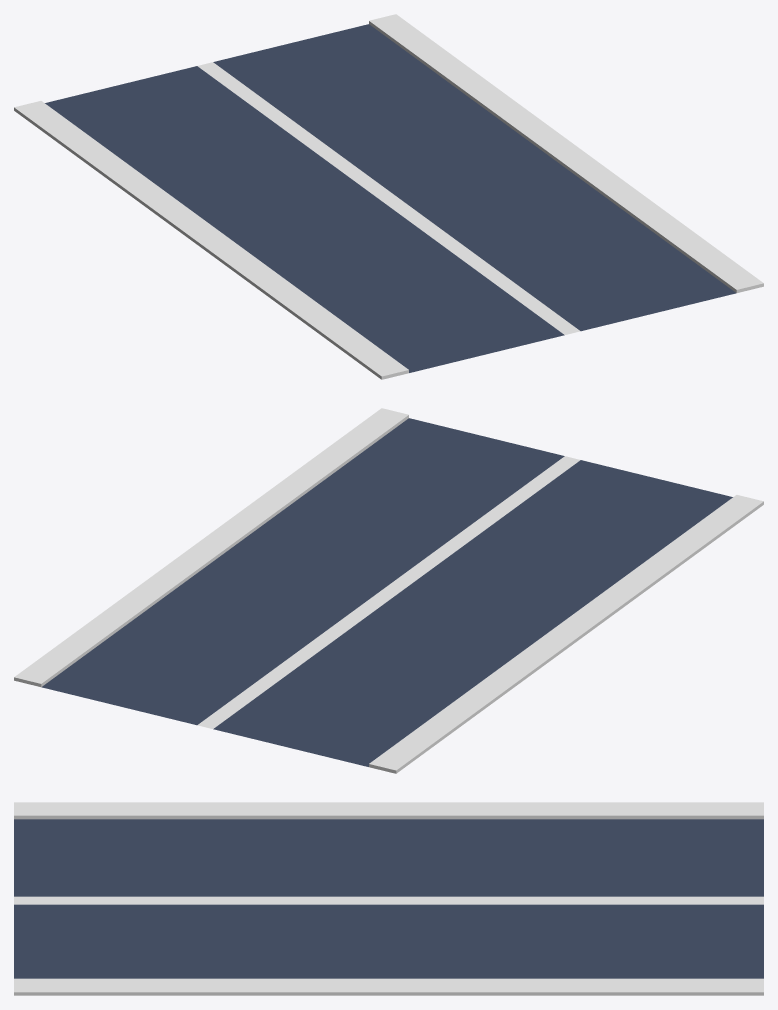
The model's file is STRAIGHT.fbx.
The picture shows the model from 3 angles, top to bottom: view 1: azimuth 30°, elevation 25°; view 2: azimuth 150°, elevation 25°; view 3: azimuth 270°, elevation 25°; orthographic projection.
Parts seen in each view (by area): view 1: Plane; view 2: Plane; view 3: Plane.
Boxes of the visible parts, bbox=[...] form: Plane: bbox=[14, 14, 763, 379]; Plane: bbox=[14, 408, 763, 773]; Plane: bbox=[14, 802, 763, 995].
Bounding box in the file's own units: 1200 × 10 × 2000.
